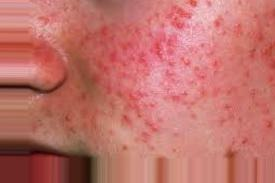Acne: (38, 1, 269, 147)
